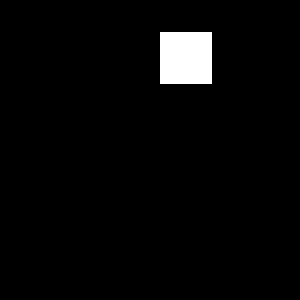circle: (160, 32, 212, 84)
